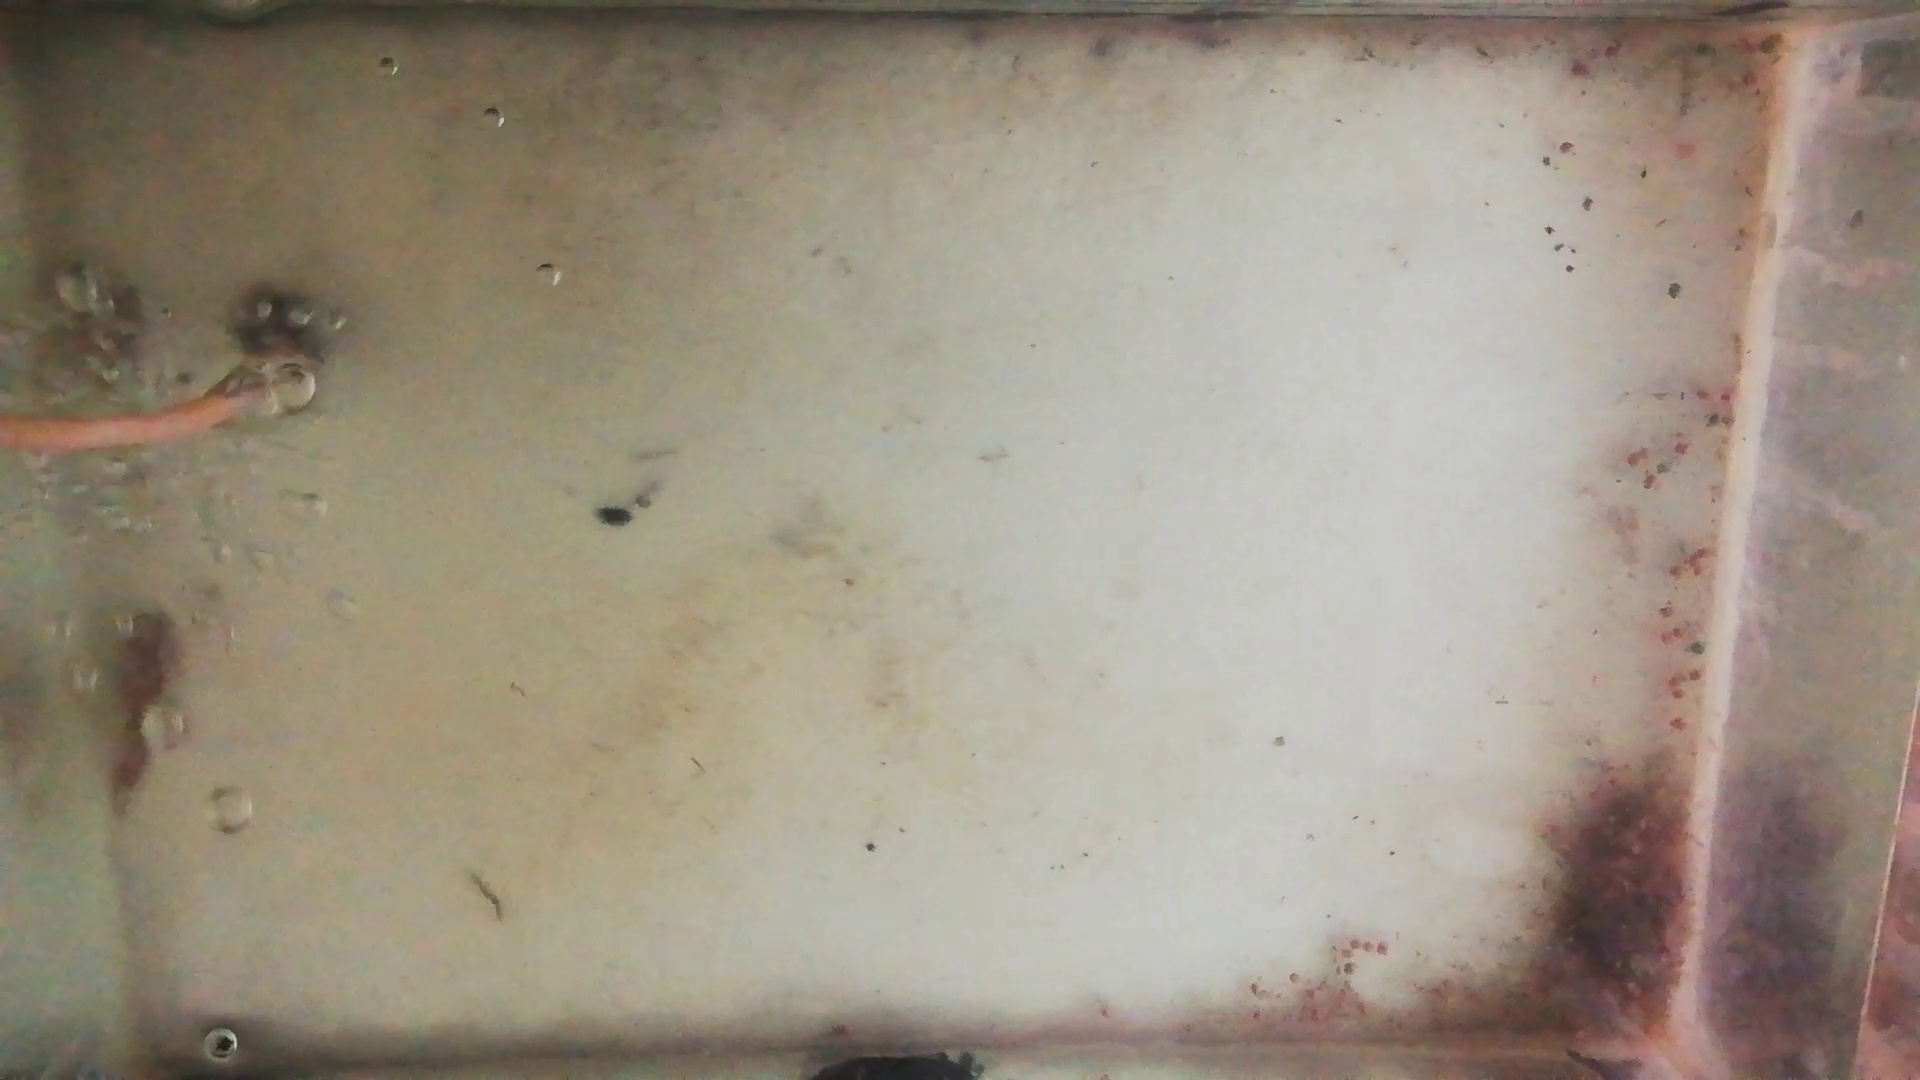fish: (37, 245, 148, 377), (111, 605, 177, 804)
